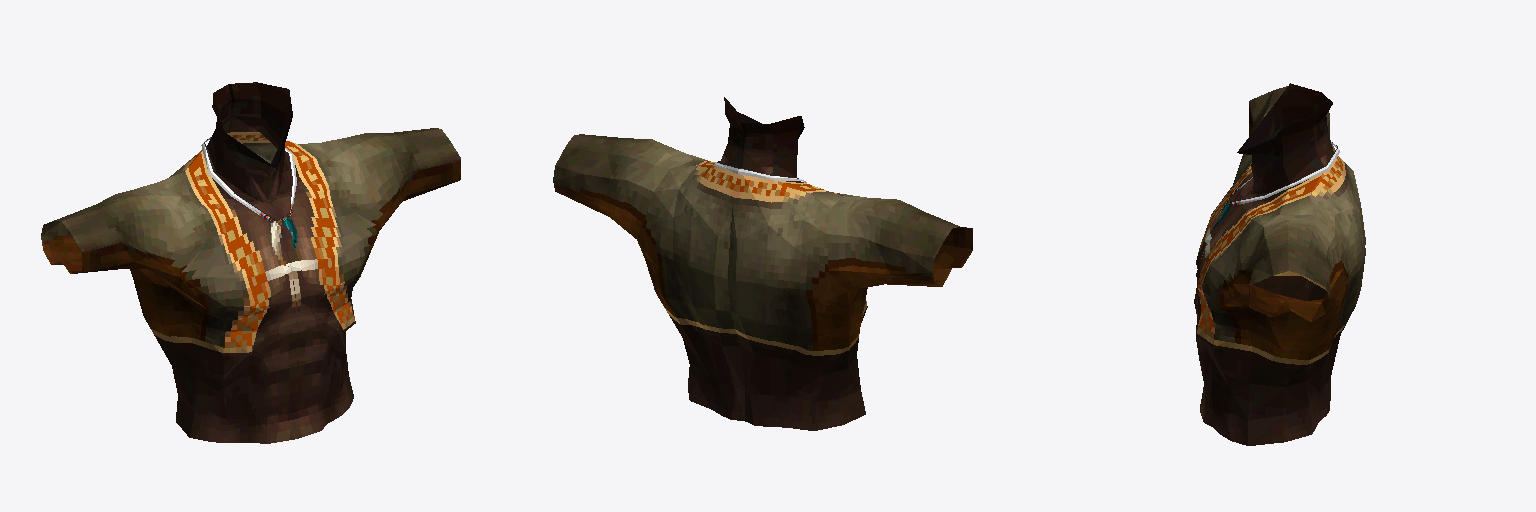
3 renders of one model, left to right at view 1: azimuth 30°, elevation 25°; view 2: azimuth 150°, elevation 25°; view 3: azimuth 270°, elevation 25°, orthographic.
Visible parts, largest first — view 1: mesh00; view 2: mesh00; view 3: mesh00.
Part boxes in pixels (bbox=[...]): mesh00: bbox=[41, 82, 460, 443]; mesh00: bbox=[553, 97, 972, 430]; mesh00: bbox=[1194, 83, 1365, 445].
Bounding box in the file's own units: 70.67 × 54.72 × 27.74.
Materials: 1 (1 with a texture image).